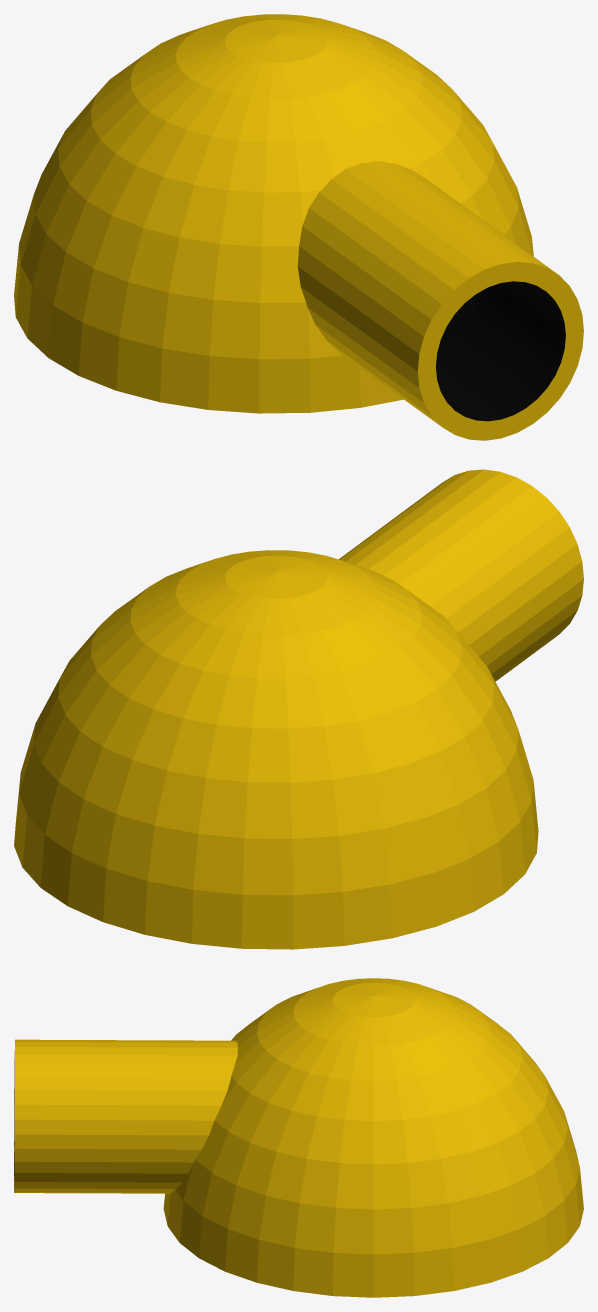
File: YellowTaihou.fbx
The picture shows the model from 3 angles, top to bottom: view 1: azimuth 30°, elevation 25°; view 2: azimuth 150°, elevation 25°; view 3: azimuth 270°, elevation 25°; orthographic projection. The views are drawn at different scales.
Visible parts, largest first — view 1: Cube.001; view 2: Cube.001; view 3: Cube.001.
Boxes of the visible parts, bbox=[...] form: Cube.001: bbox=[14, 14, 583, 440]; Cube.001: bbox=[14, 469, 583, 949]; Cube.001: bbox=[14, 978, 583, 1297].
Bounding box in the file's own units: 144 × 80.48 × 195.
